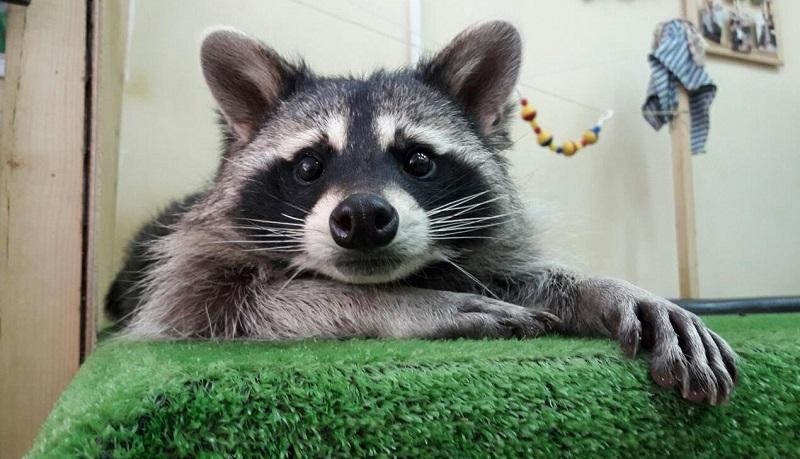raccoon: (107, 14, 740, 409)
